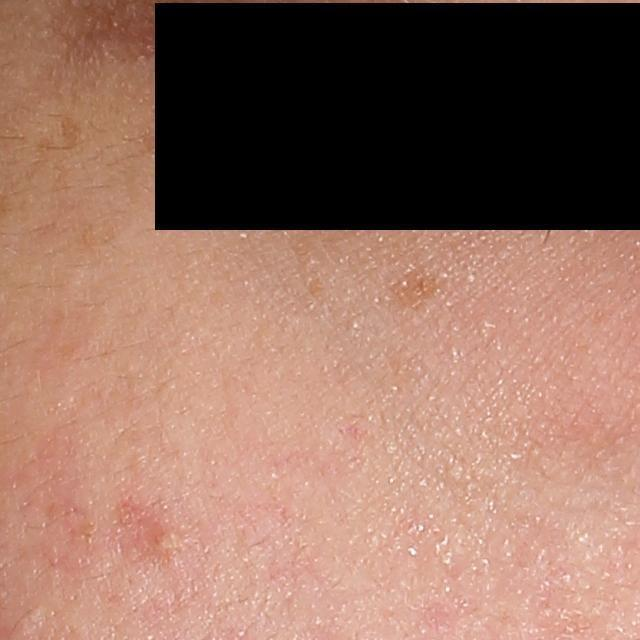melasma: (390, 268, 440, 311)
